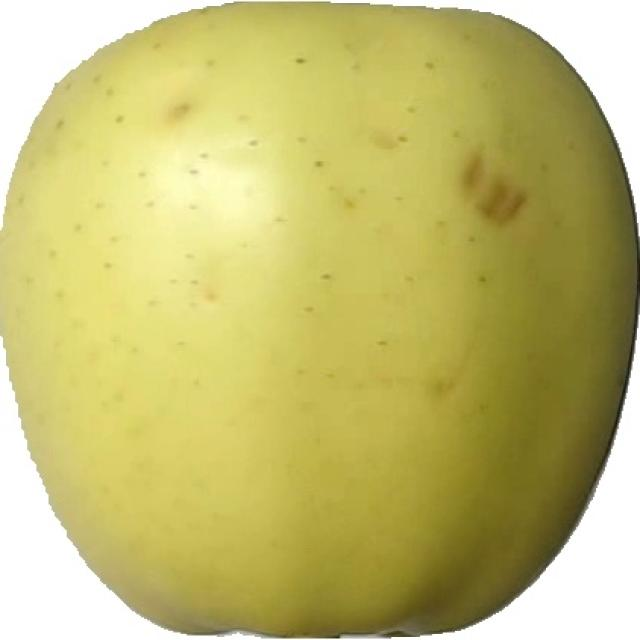Golden Elma: (7, 15, 640, 640)
